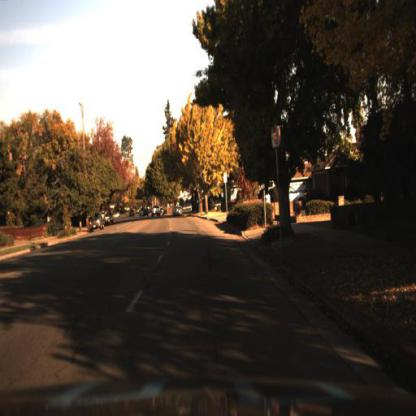car: (262, 183, 306, 214), (85, 206, 106, 237), (89, 212, 106, 233), (171, 205, 186, 221), (153, 205, 163, 221)
